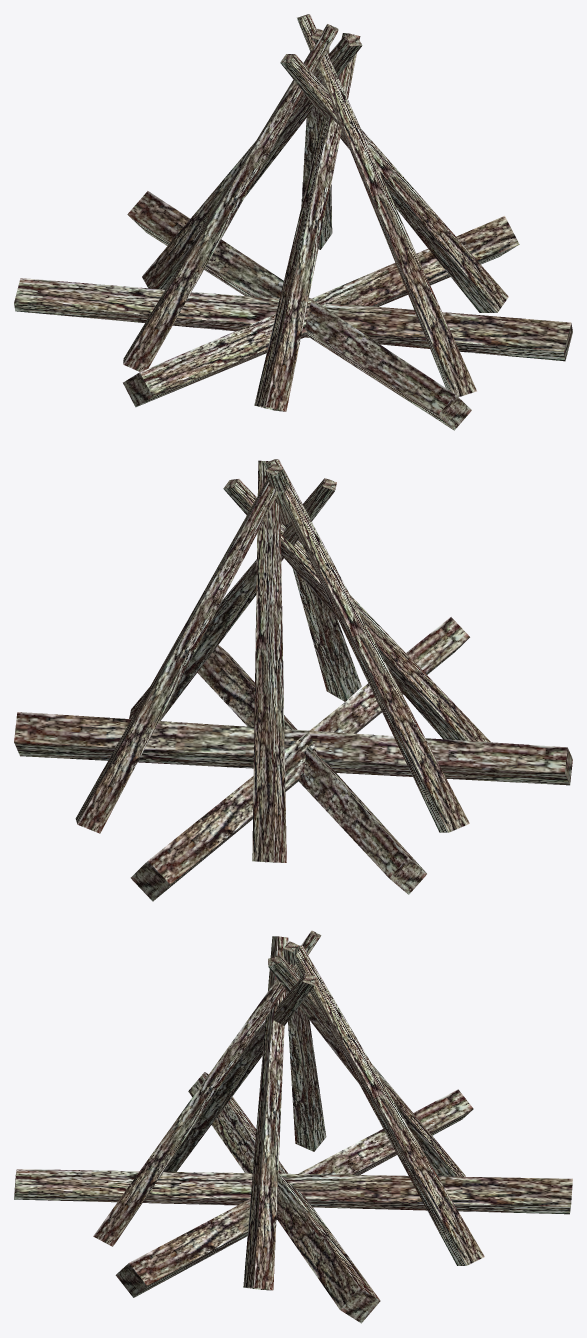
The model's file is hr_ps_fire2.glb.
3 views of the same model, one above another, from view 1: azimuth 30°, elevation 25°; view 2: azimuth 150°, elevation 25°; view 3: azimuth 270°, elevation 25° (orthographic). The views are drawn at different scales.
Parts seen in each view (by area): view 1: hr_ps_fire2-col; view 2: hr_ps_fire2-col; view 3: hr_ps_fire2-col.
Boxes of the visible parts, <box> form: hr_ps_fire2-col: <box>14,14,572,430</box>; hr_ps_fire2-col: <box>14,459,572,901</box>; hr_ps_fire2-col: <box>14,930,572,1323</box>.
Bounding box in the file's own units: 1.48 × 0.9688 × 1.68.
Materials: 1 (1 with a texture image).
